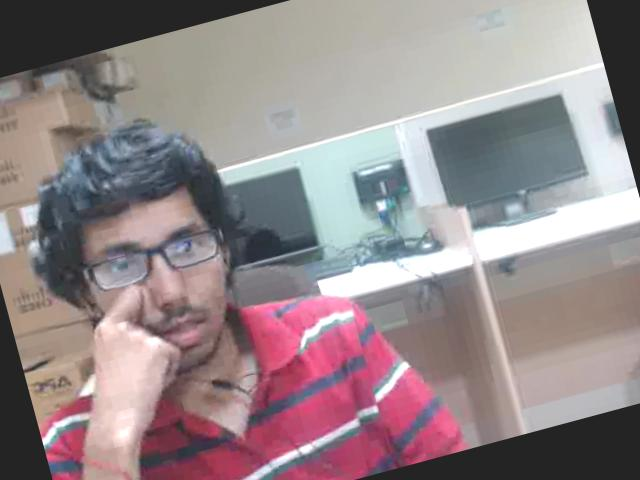bingung: (70, 176, 248, 387)
